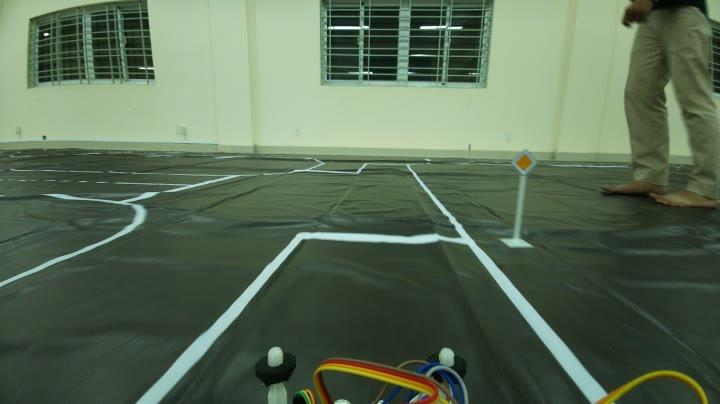priority: (507, 150, 542, 174)
